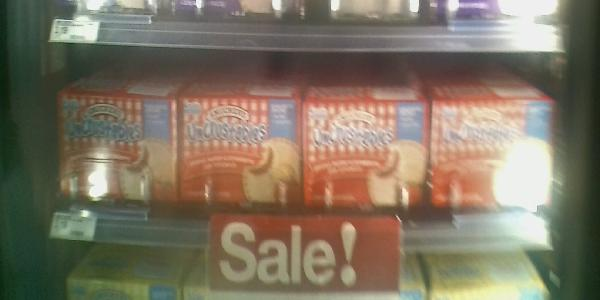icecream: (53, 93, 179, 215), (299, 96, 429, 214), (179, 97, 303, 214), (432, 95, 552, 210)
